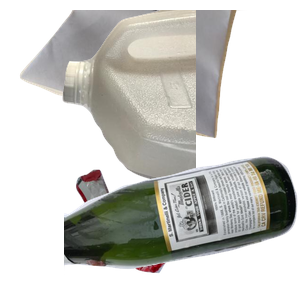glass: (64, 154, 300, 300)
paper: (17, 10, 254, 141)
plastic: (60, 10, 300, 190)
trash: (74, 167, 235, 300)
